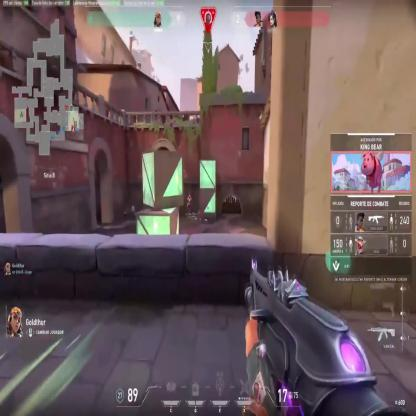enemy: (185, 193, 193, 215)
enemy_head: (188, 194, 191, 199)
